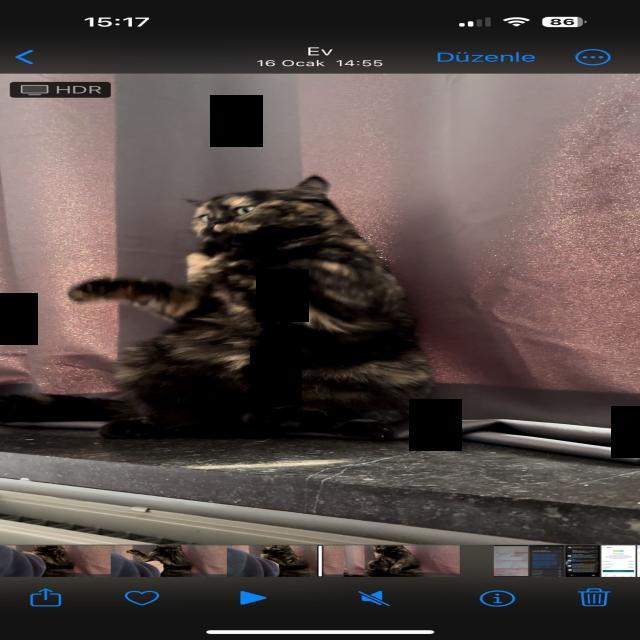authorized: (4, 174, 436, 440)
